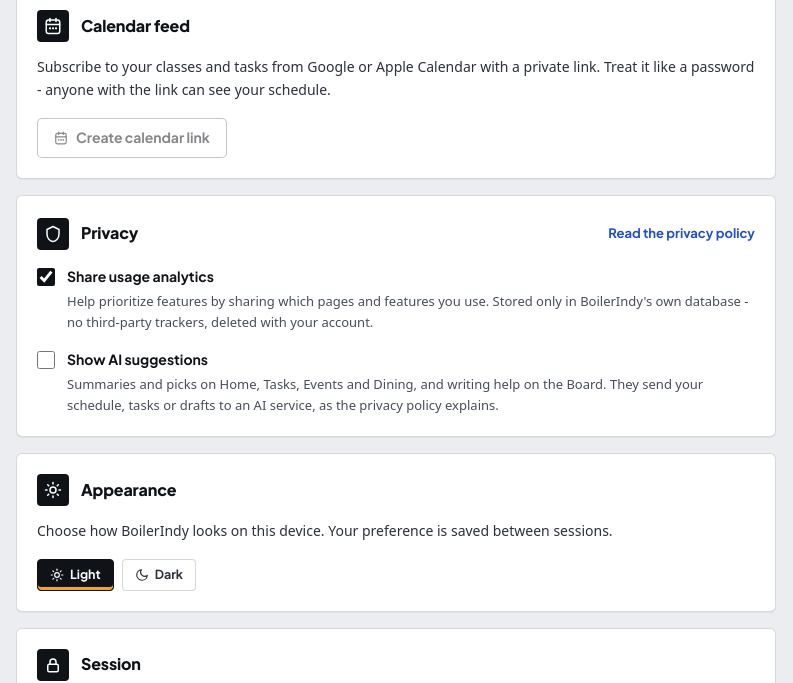
Settings: AI suggestions › starts off, and checking it saves aiOptIn and refreshes the session
(page scrolled)
Click the checkbox labelled "Show AI suggestions". click: (46, 360)
box: [37,351,55,369]
(page scrolled)
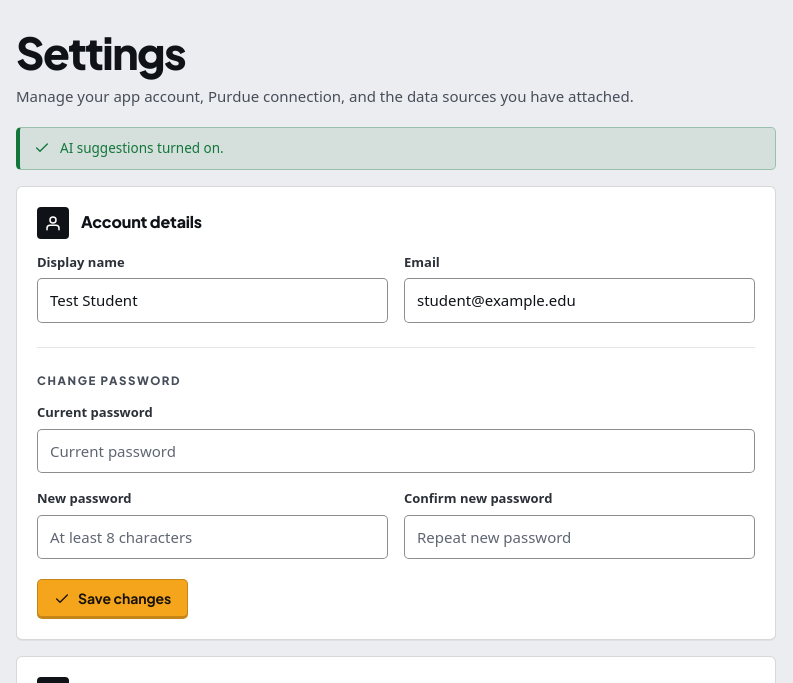
Result: the text "AI suggestions turned on." is shown at [60,138,224,159]
